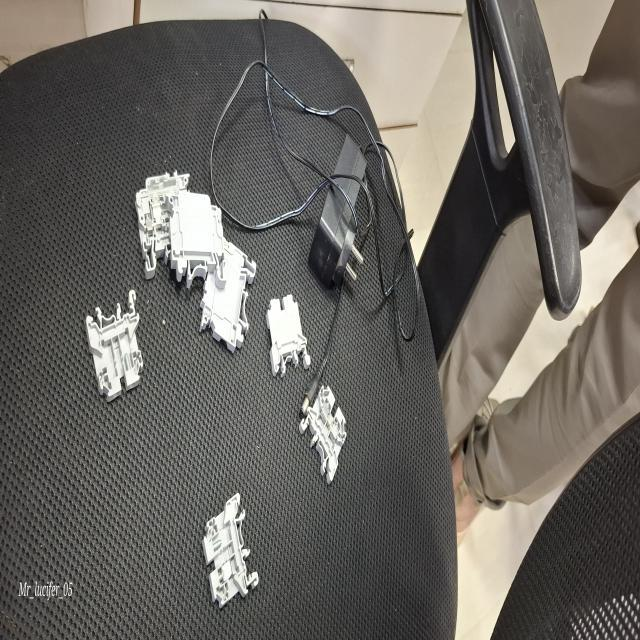Inverted: (260, 286, 310, 399)
Pass: (302, 379, 358, 492)
Reject: (192, 488, 266, 612), (78, 292, 154, 411)
